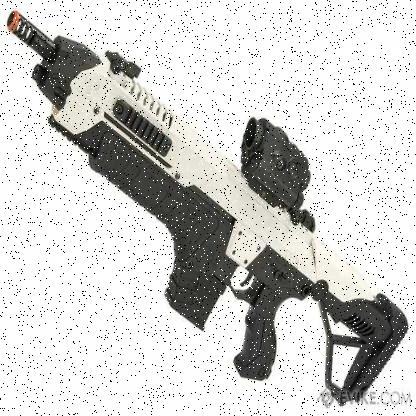rifle: (5, 13, 412, 396)
